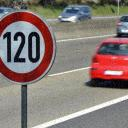speed_limit_120: (0, 9, 57, 85)
